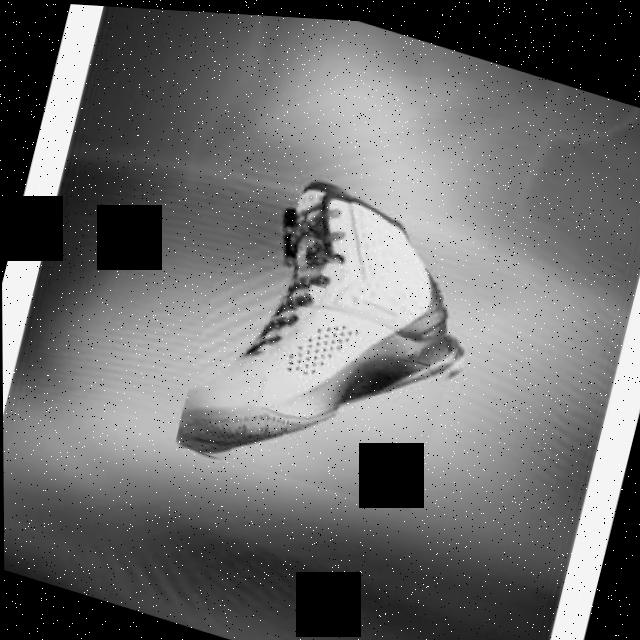shoe: (171, 150, 493, 519)
